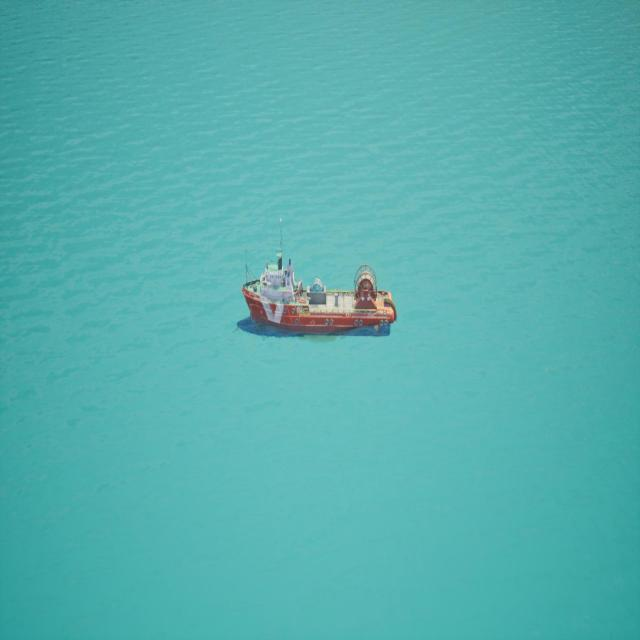tug boat: (239, 218, 401, 343)
